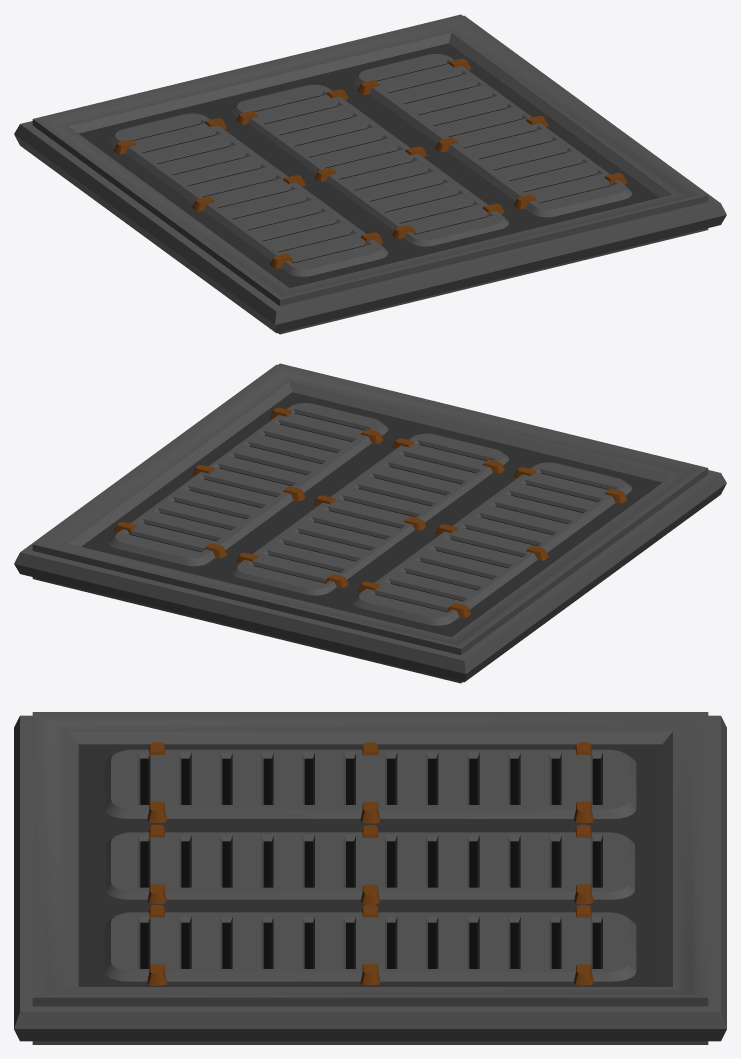
The model's file is VentFloor.fbx.
The picture shows the model from 3 angles, top to bottom: view 1: azimuth 30°, elevation 25°; view 2: azimuth 150°, elevation 25°; view 3: azimuth 270°, elevation 25°; orthographic projection. The views are drawn at different scales.
Visible parts, largest first — view 1: RoofTile_Vents (×2); view 2: RoofTile_Vents (×2); view 3: RoofTile_Vents (×2).
Boxes of the visible parts, <box> form: RoofTile_Vents (×2): <box>14,14,726,334</box>; RoofTile_Vents (×2): <box>14,363,726,683</box>; RoofTile_Vents (×2): <box>14,712,726,1044</box>.
Bounding box in the file's own units: 20 × 1.46 × 20.
